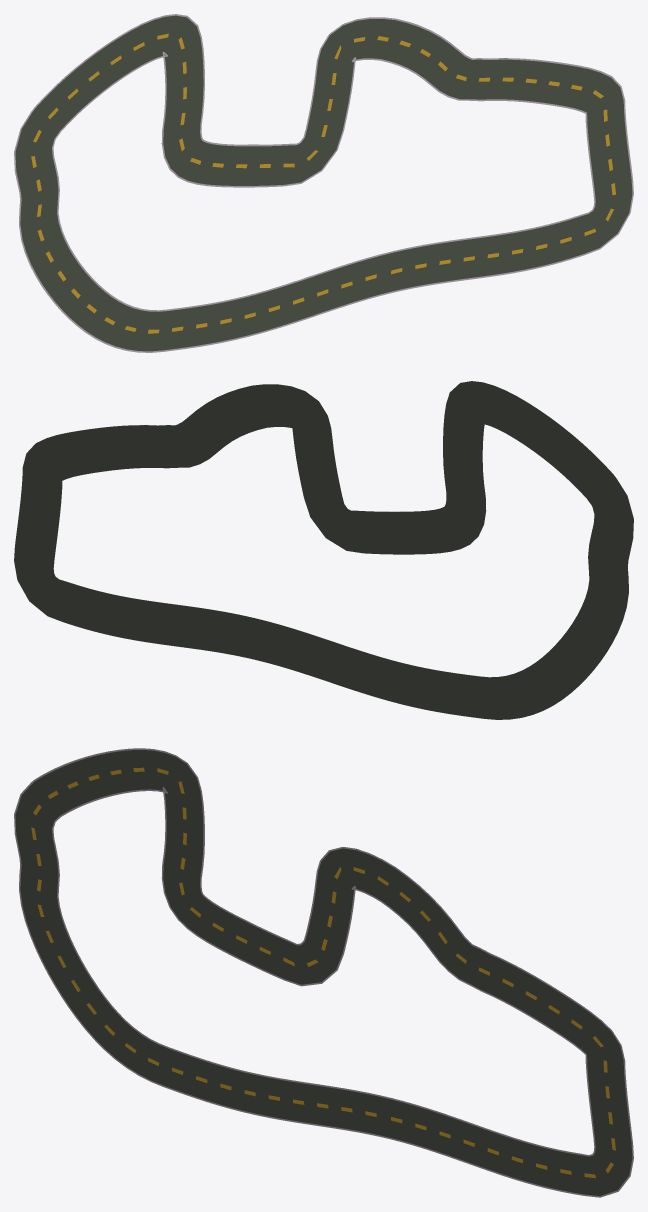
Rendered from track.obj.
3 views of the same model, one above another, from view 1: azimuth 30°, elevation 25°; view 2: azimuth 150°, elevation 25°; view 3: azimuth 330°, elevation 25° (orthographic).
Size of the model in its own units: 16.62 by 8.82 by 0.002.
